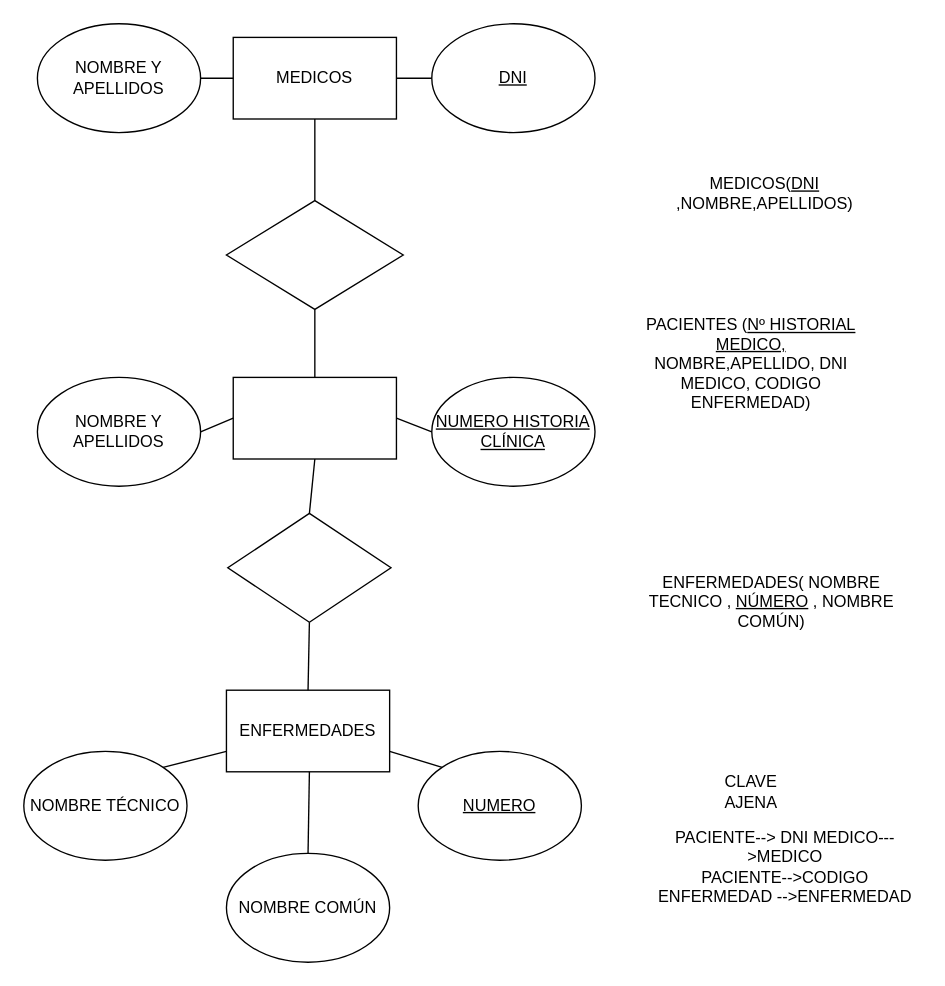
Image size: 945x986. Some labels were removed from this diagram. Each missing label, with the centre of its shape:
"ATIENDEN" belongs at point (314, 254).
"PACIENTES" belongs at point (314, 417).
"PADECEN" belongs at point (308, 567).
